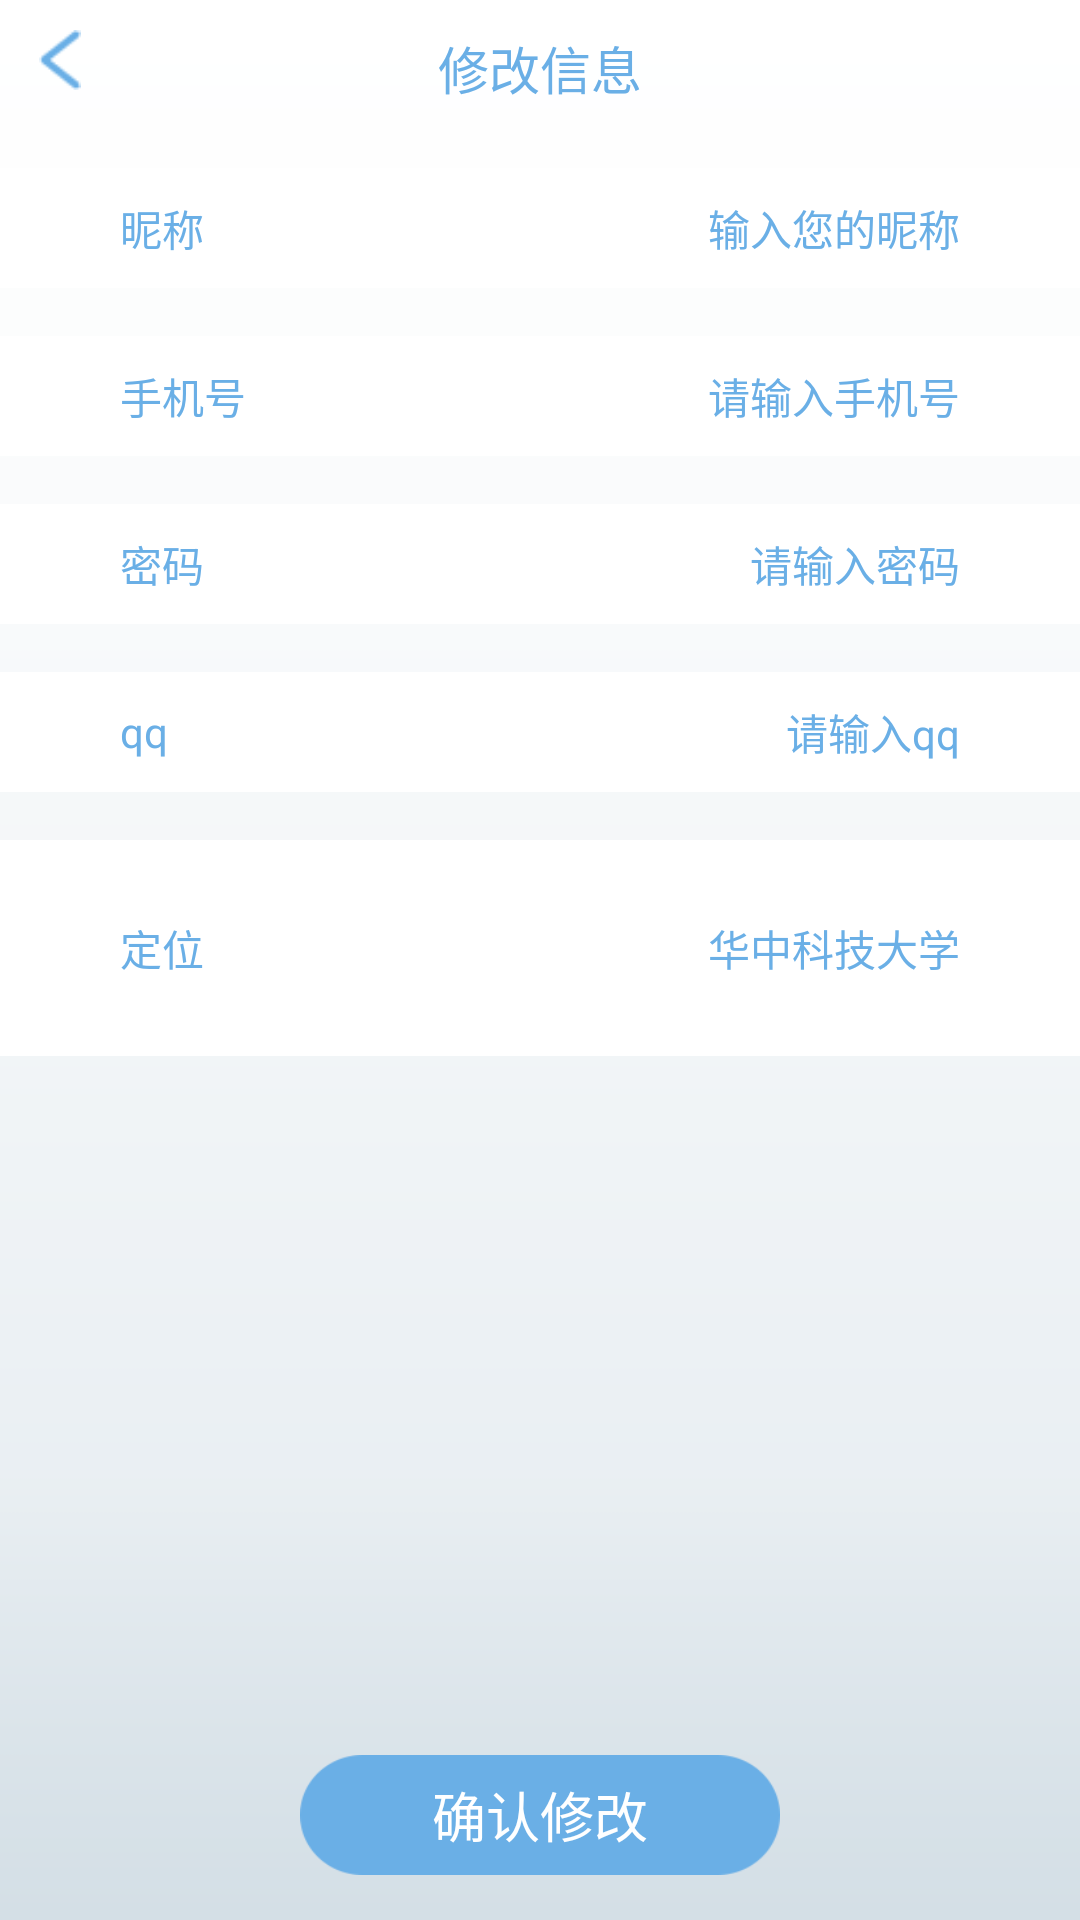

Where icons sit on this 1080w x 1920h app screen, as (x1, y1, x2, y2):
returnb: (39, 30, 81, 90)
